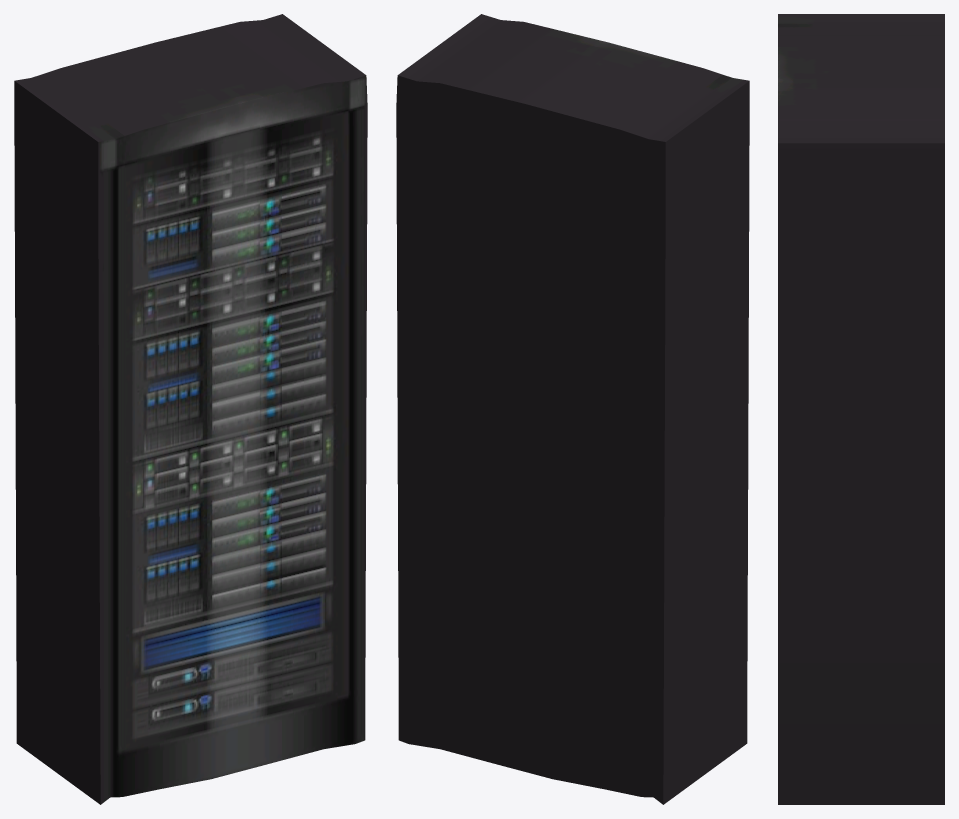
The model's file is rak_server.glb.
3 views of the same model, side by side, from view 1: azimuth 30°, elevation 25°; view 2: azimuth 150°, elevation 25°; view 3: azimuth 270°, elevation 25° (orthographic).
Parts seen in each view (by area): view 1: root_Material_58_0; view 2: root_Material_58_0; view 3: root_Material_58_0.
Part boxes in pixels (x1,y1,x2,y2): root_Material_58_0: [14, 14, 367, 804]; root_Material_58_0: [396, 14, 749, 804]; root_Material_58_0: [778, 14, 944, 804].
Bounding box in the file's own units: 0.1856 × 0.4402 × 0.1.
1 material, 1 textured.
